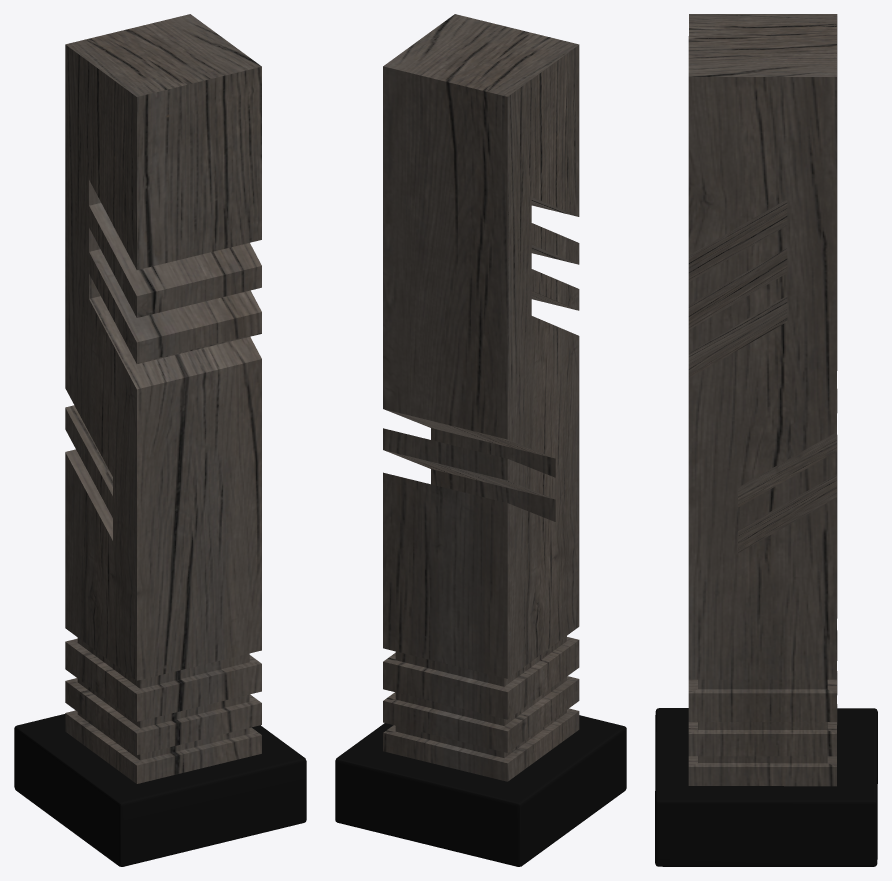
File: lampara.obj
The picture shows the model from 3 angles, left to right: view 1: azimuth 30°, elevation 25°; view 2: azimuth 150°, elevation 25°; view 3: azimuth 270°, elevation 25°; orthographic projection. The views are drawn at different scales.
Parts seen in each view (by area): view 1: pCube3, Base; view 2: pCube3, Base; view 3: pCube3, Base.
Part boxes in pixels (x1,y1,x2,y2): pCube3: (65,14,261,783); Base: (14,714,306,866); pCube3: (383,14,579,781); Base: (335,715,626,866); pCube3: (688,14,837,786); Base: (655,708,877,866).
Bounding box in the file's own units: 9.98 × 38.19 × 9.93.
